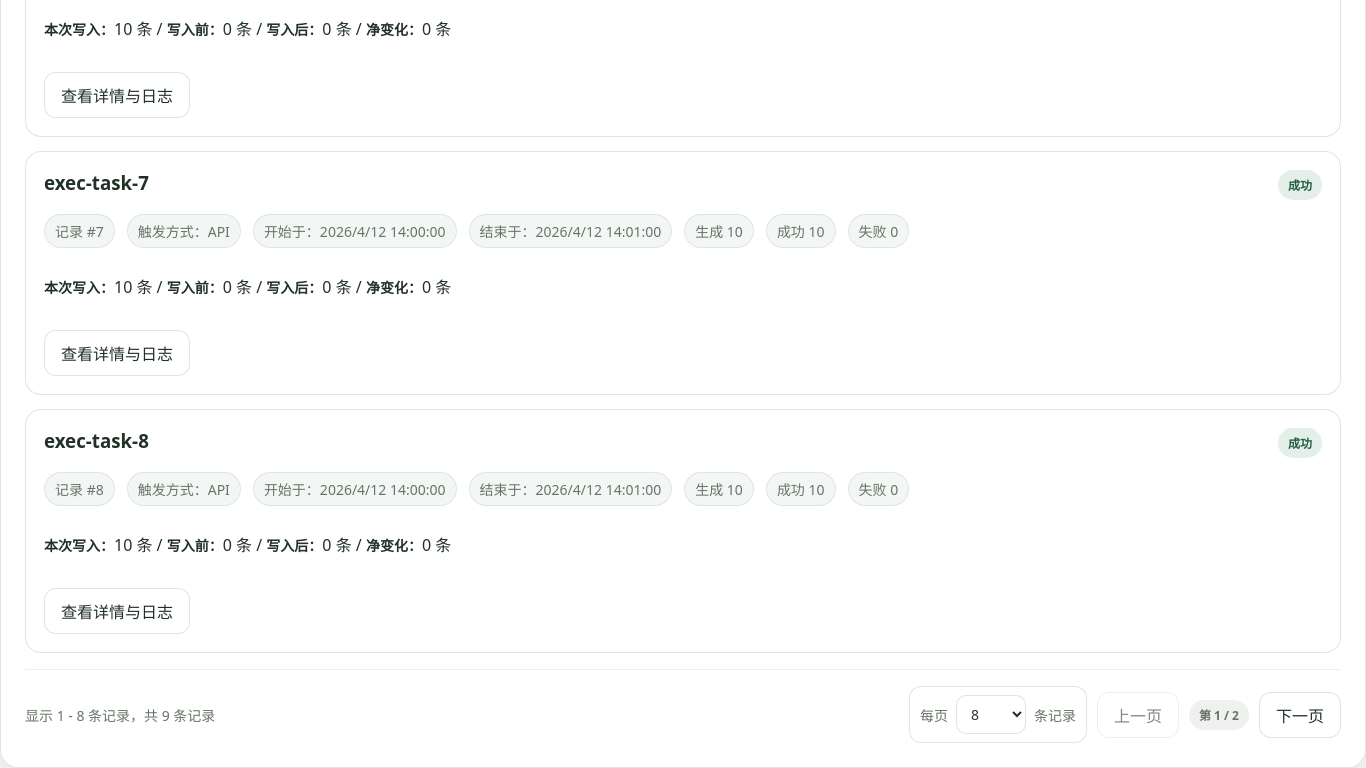
ExecutionsView › paginates long execution lists
Expected: the text "exec-task-9" is not shown
What coordinates should you click on to do the following:
click the 5th button
I would click on:
 (1300, 714)
Its box is [1259,692,1341,738].
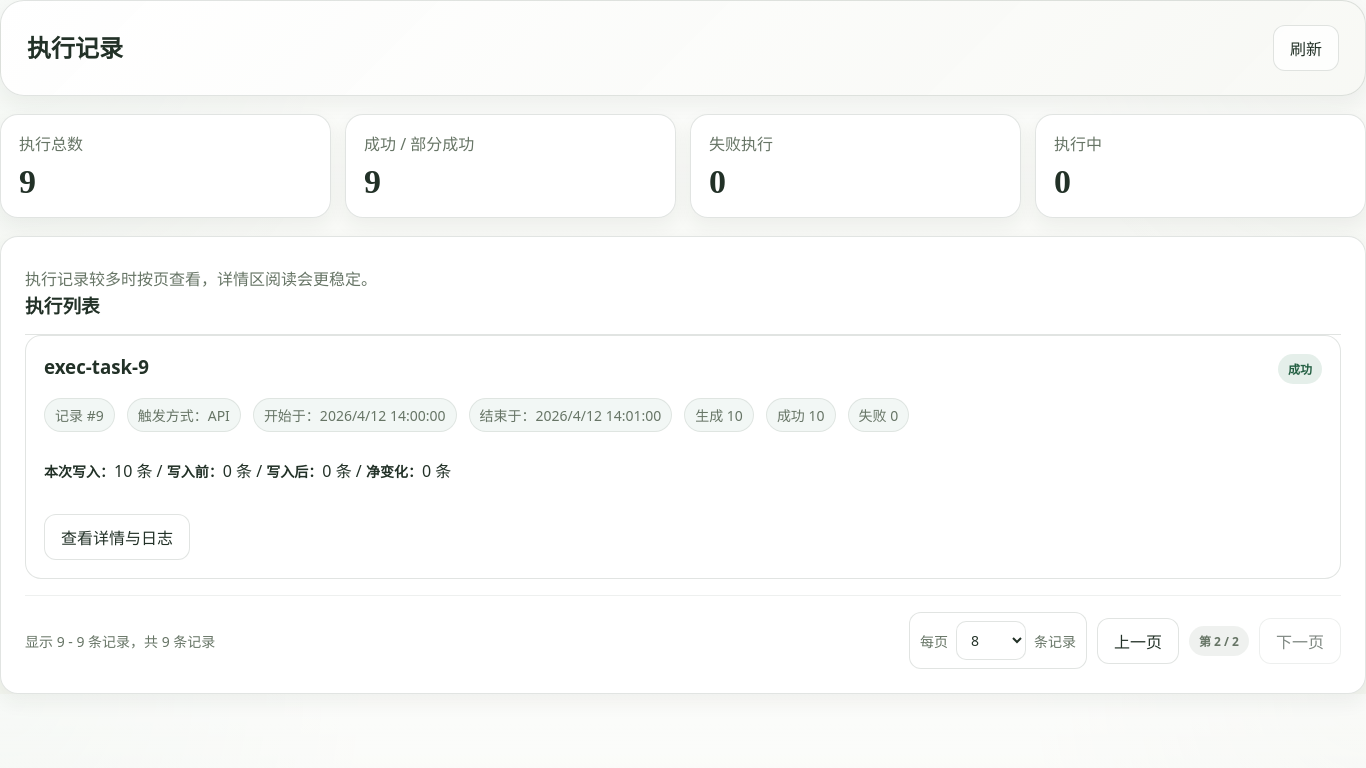
Expected: the text "exec-task-9" is shown, [44,354,149,379]
